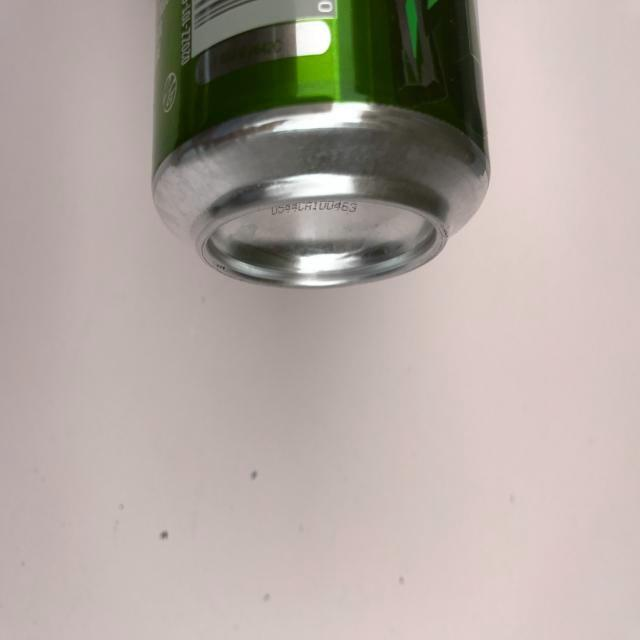metal: (142, 2, 506, 294)
